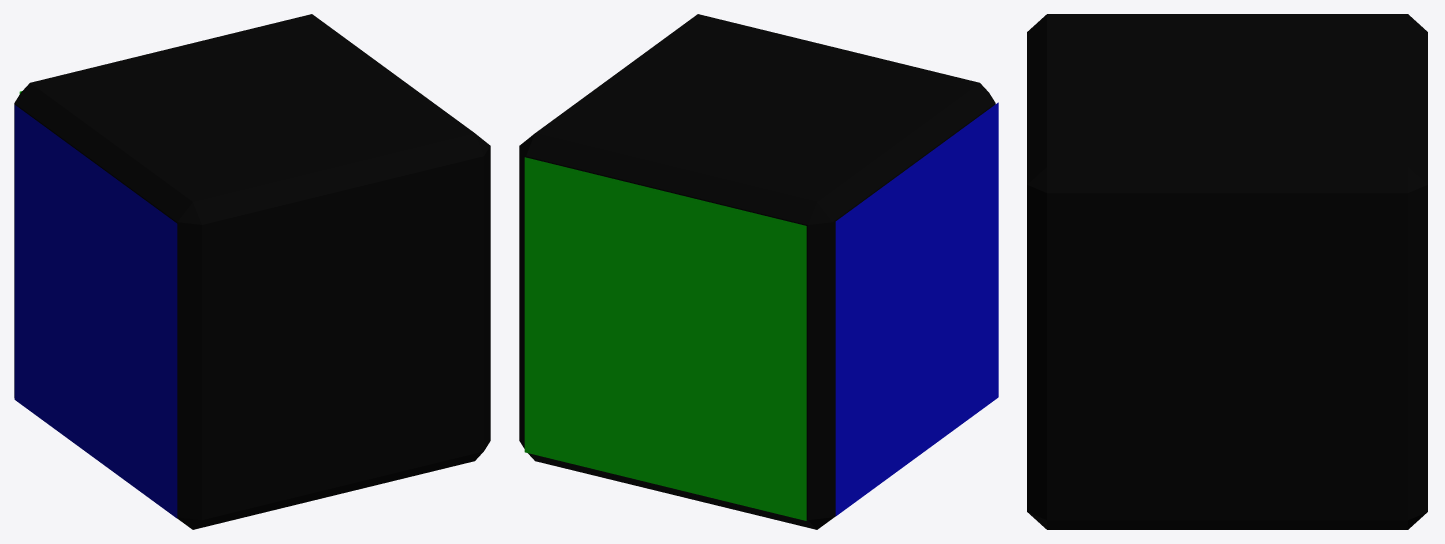
File: rubic16.obj
The picture shows the model from 3 angles, left to right: view 1: azimuth 30°, elevation 25°; view 2: azimuth 150°, elevation 25°; view 3: azimuth 270°, elevation 25°; orthographic projection. The views are drawn at different scales.
Visible parts, largest first — view 1: Cube.028_Cube.046; view 2: Cube.028_Cube.046; view 3: Cube.028_Cube.046.
Boxes of the visible parts, box(x1,y1,x2,y2) form: Cube.028_Cube.046: box(14, 14, 490, 529); Cube.028_Cube.046: box(519, 14, 998, 529); Cube.028_Cube.046: box(1027, 14, 1427, 529).
Bounding box in the file's own units: 2.01 × 2 × 2.01.
